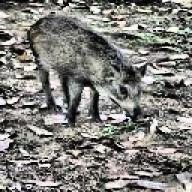boar: (26, 12, 150, 124)
